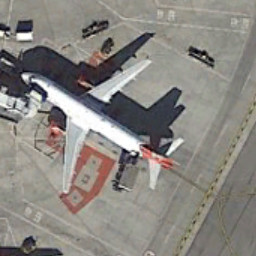Airplane: (14, 52, 193, 201)
